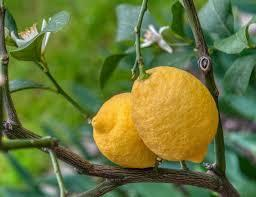lemon: (131, 66, 219, 164), (92, 92, 157, 168)
